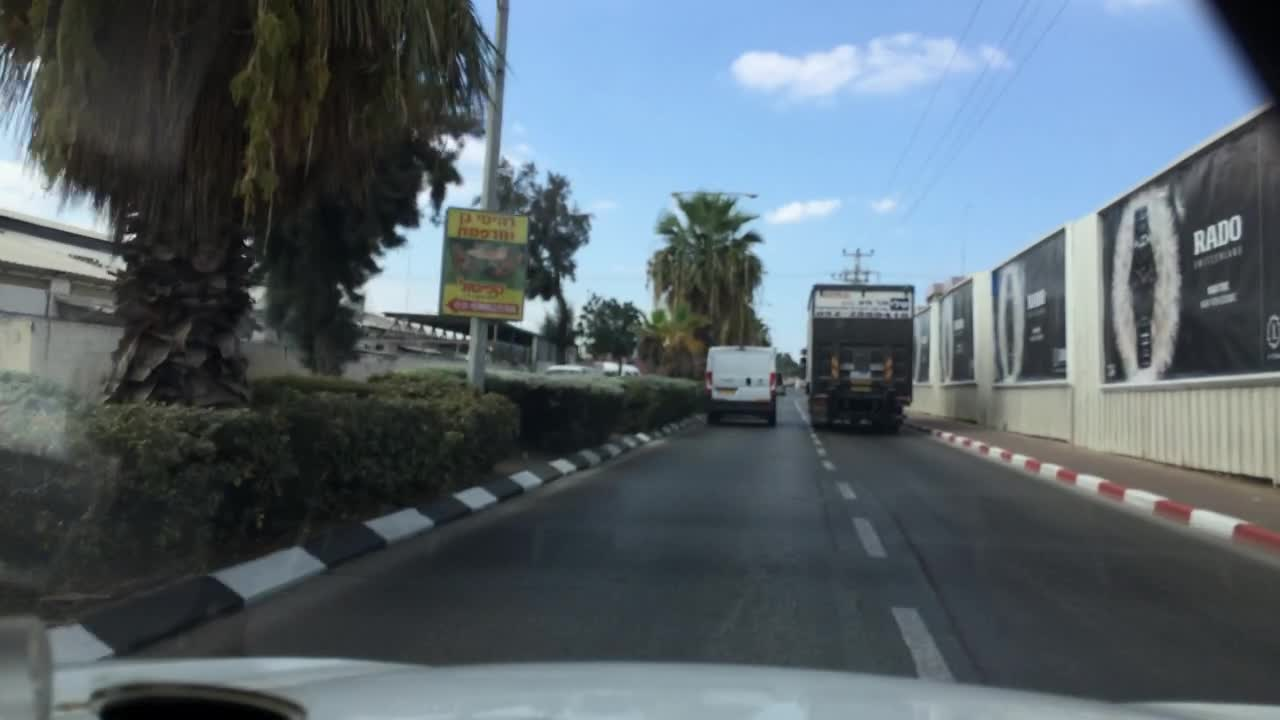car: (547, 359, 589, 376), (602, 362, 638, 376), (771, 375, 788, 398)
traffic sign: (441, 203, 526, 319)
truck: (804, 279, 914, 436), (702, 341, 778, 427)
